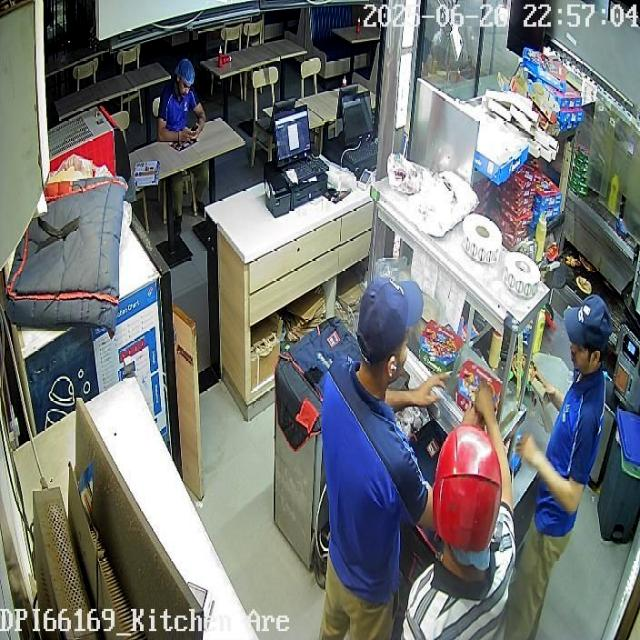helmet: (433, 424, 502, 552)
